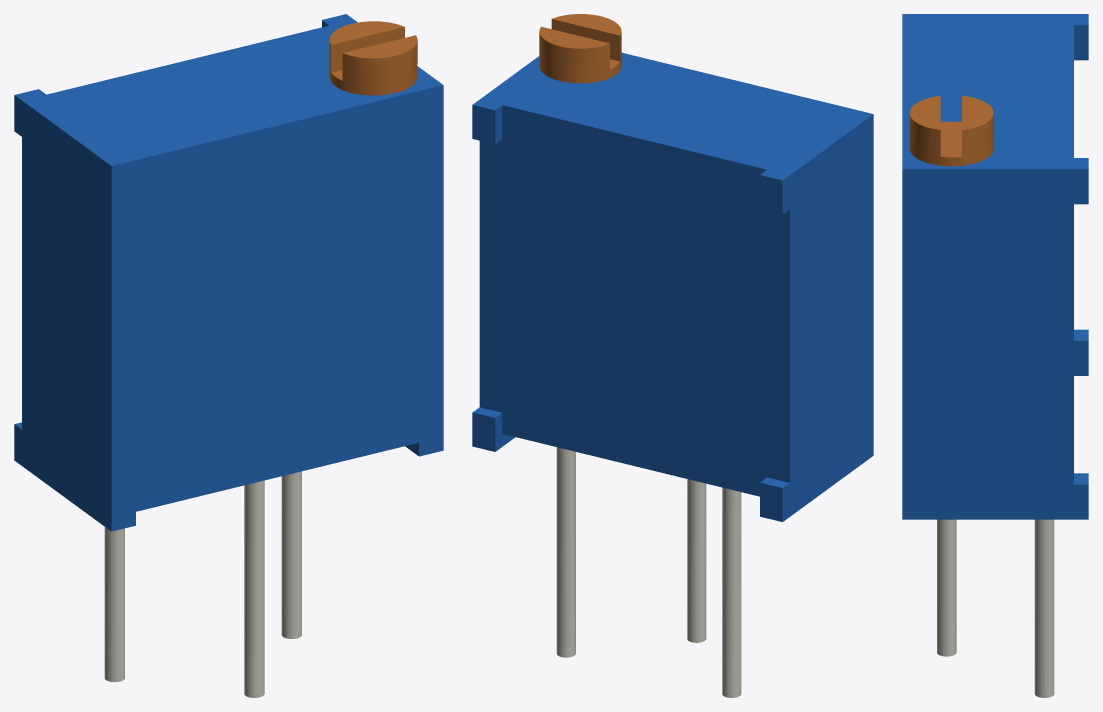
File: kc-potentiometer_bourns_3296y_vertical.glb
The picture shows the model from 3 angles, left to right: view 1: azimuth 30°, elevation 25°; view 2: azimuth 150°, elevation 25°; view 3: azimuth 270°, elevation 25°; orthographic projection. The views are drawn at different scales.
Parts seen in each view (by area): view 1: 0_0.16666666666666666_0.5_0, 0.6666666666666666_0.6666666666666666_0.5833333333333334_0.8, 0.5_0.16666666666666666_0_0; view 2: 0_0.16666666666666666_0.5_0, 0.6666666666666666_0.6666666666666666_0.5833333333333334_0.8, 0.5_0.16666666666666666_0_0; view 3: 0_0.16666666666666666_0.5_0, 0.6666666666666666_0.6666666666666666_0.5833333333333334_0.8, 0.5_0.16666666666666666_0_0.
Boxes of the visible parts, bbox=[...] form: 0_0.16666666666666666_0.5_0: bbox=[14, 14, 443, 531]; 0.6666666666666666_0.6666666666666666_0.5833333333333334_0.8: bbox=[104, 471, 301, 697]; 0.5_0.16666666666666666_0_0: bbox=[329, 21, 417, 95]; 0_0.16666666666666666_0.5_0: bbox=[472, 53, 873, 521]; 0.6666666666666666_0.6666666666666666_0.5833333333333334_0.8: bbox=[556, 447, 741, 697]; 0.5_0.16666666666666666_0_0: bbox=[539, 14, 621, 83]; 0_0.16666666666666666_0.5_0: bbox=[902, 14, 1088, 519]; 0.6666666666666666_0.6666666666666666_0.5833333333333334_0.8: bbox=[937, 519, 1054, 697]; 0.5_0.16666666666666666_0_0: bbox=[909, 95, 993, 166].
Size of the model in its own units: 0.953 by 1.71 by 0.4829.
